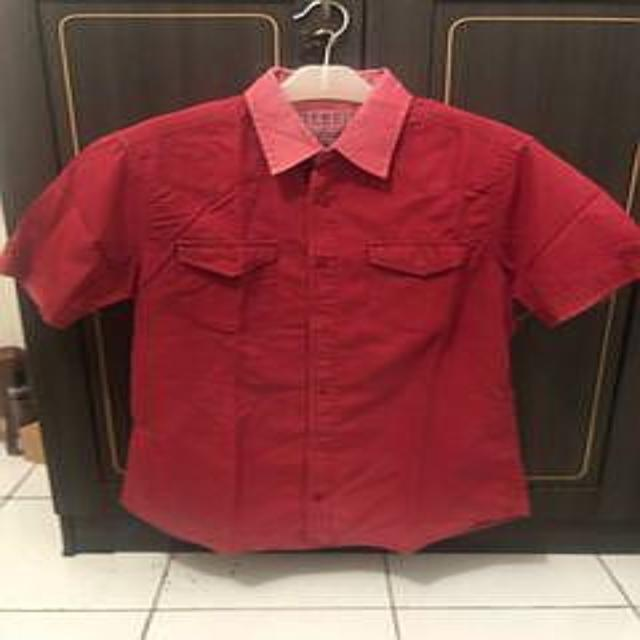SHIRT: (3, 56, 640, 566)
